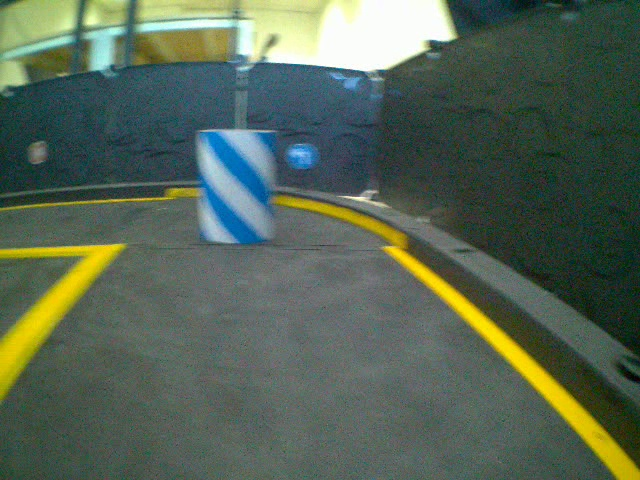bucket: (191, 129, 278, 246)
